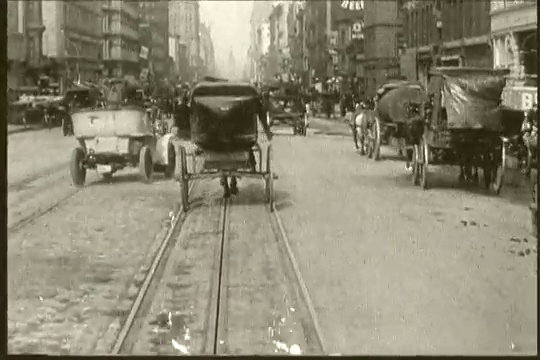car: (55, 100, 181, 189)
carriage: (401, 65, 515, 199), (168, 76, 281, 211), (338, 74, 431, 166), (256, 76, 314, 145)
